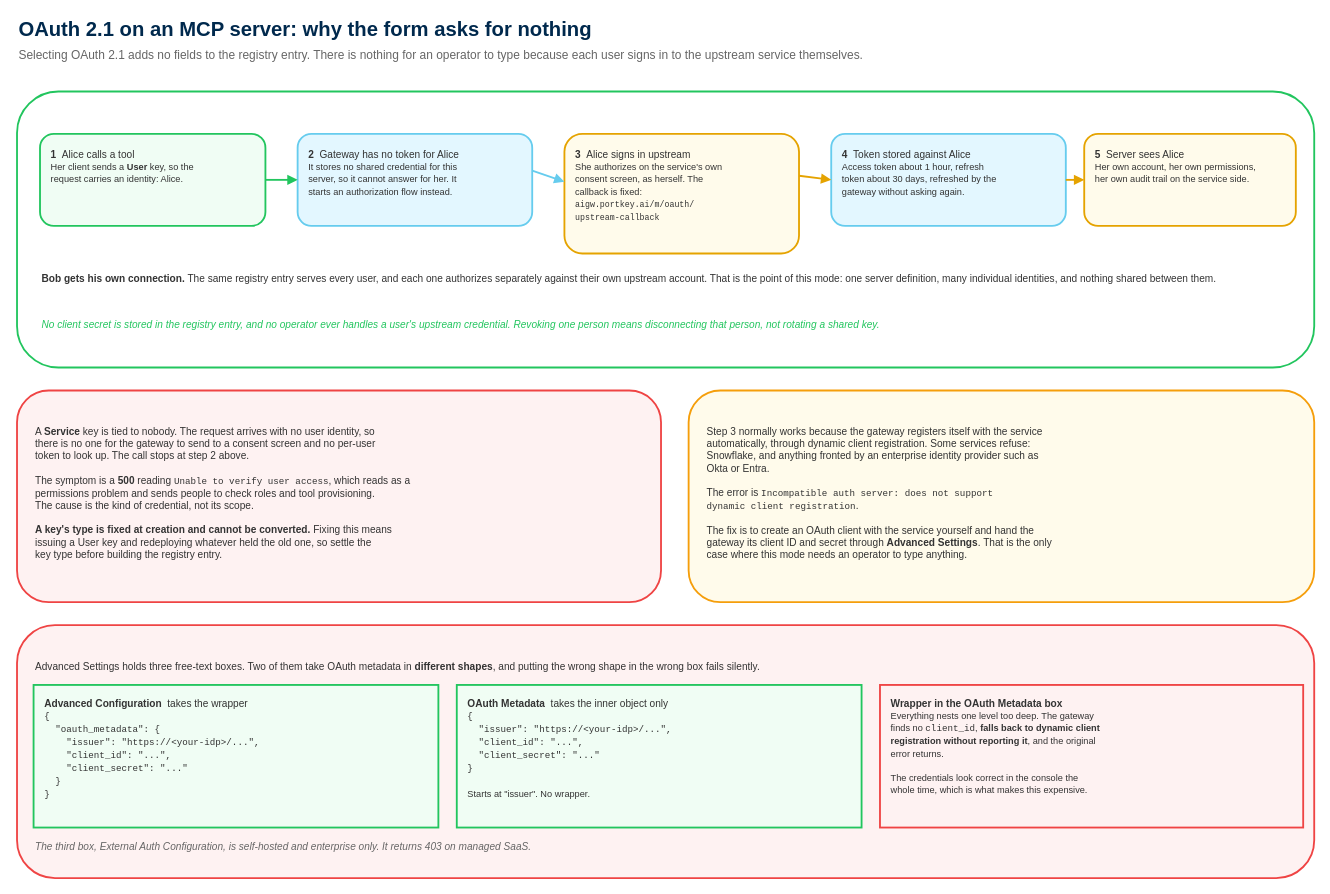
This 1330x894 diagram has some shape labels left out. The shapes that lost their labels are listed below. From the top down, each one's box as (x1, y1, x2, y2) in pixels, then its label:
(16, 90, 1315, 368): Works · the client presents a User key or an IdP login
(16, 389, 661, 603): Fails · the client presents a Service key
(687, 389, 1315, 603): When the service refuses to register the gateway
(16, 624, 1315, 879): The two boxes that look interchangeable and are not
